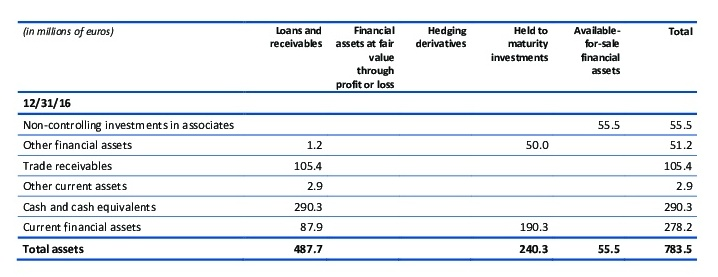table: (0, 0, 718, 277)
